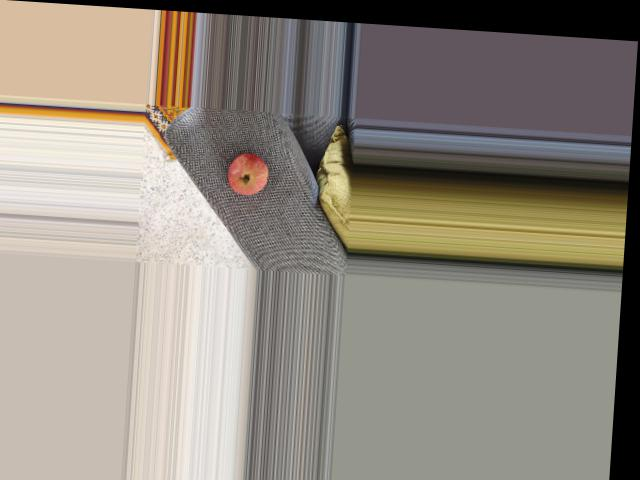apple: (224, 146, 275, 194)
